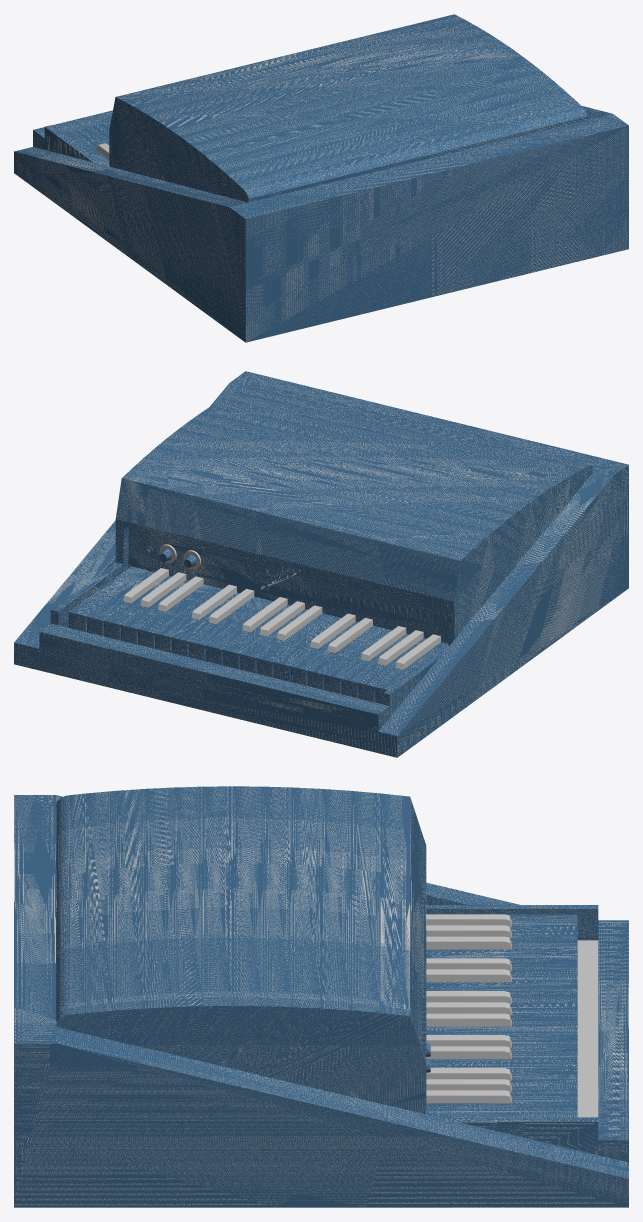
3 renders of one model, top to bottom at view 1: azimuth 30°, elevation 25°; view 2: azimuth 150°, elevation 25°; view 3: azimuth 270°, elevation 25°, orthographic. The views are drawn at different scales.
Parts seen in each view (by area): view 1: mesh238_mesh238-geometry, mesh179_mesh179-geometry, mesh187_mesh187-geometry; view 2: mesh179_mesh179-geometry, mesh238_mesh238-geometry, mesh187_mesh187-geometry, mesh236_mesh236-geometry, mesh183_mesh183-geometry, mesh177_mesh177-geometry, mesh1_mesh1-geometry; view 3: mesh179_mesh179-geometry, mesh238_mesh238-geometry, mesh187_mesh187-geometry, mesh236_mesh236-geometry, mesh183_mesh183-geometry.
Part boxes in pixels (x1,y1,x2,y2): mesh238_mesh238-geometry: (14,105,628,342); mesh179_mesh179-geometry: (44,14,587,202); mesh187_mesh187-geometry: (63,122,110,166); mesh179_mesh179-geometry: (50,382,593,717); mesh238_mesh238-geometry: (14,371,628,757); mesh187_mesh187-geometry: (86,571,448,704); mesh236_mesh236-geometry: (123,568,440,669); mesh183_mesh183-geometry: (68,566,147,631); mesh177_mesh177-geometry: (159,544,200,569); mesh1_mesh1-geometry: (257,566,300,591); mesh179_mesh179-geometry: (56,786,598,1154); mesh238_mesh238-geometry: (14,795,628,1207); mesh187_mesh187-geometry: (426,914,577,1111); mesh236_mesh236-geometry: (426,914,511,1103); mesh183_mesh183-geometry: (426,1112,577,1117).
Size of the model in its own units: 0.6717 by 0.2337 by 0.703.
